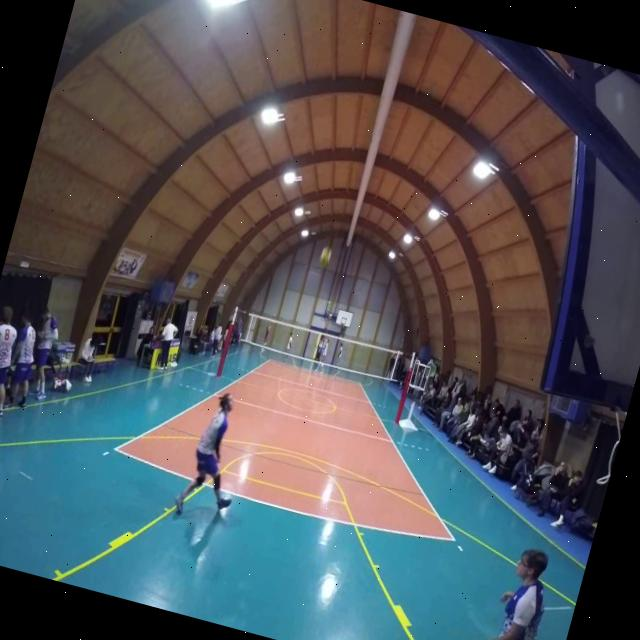Volleyball: (318, 244, 333, 267)
